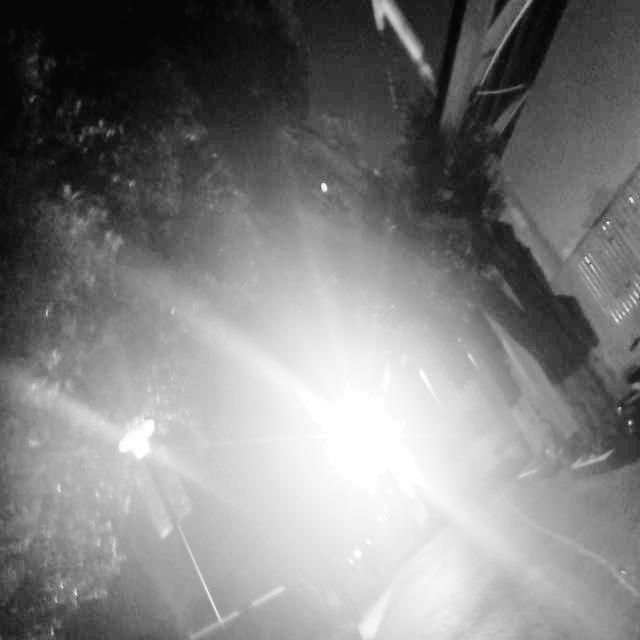Light: (194, 257, 558, 615), (20, 358, 246, 565)
